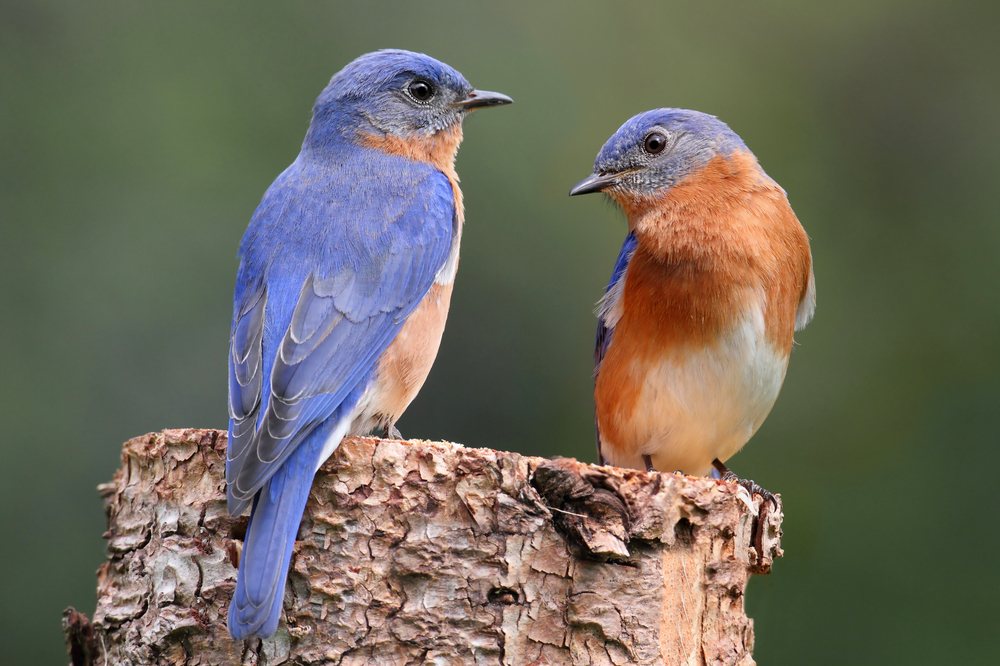bird: (222, 49, 513, 648), (574, 109, 822, 504)
